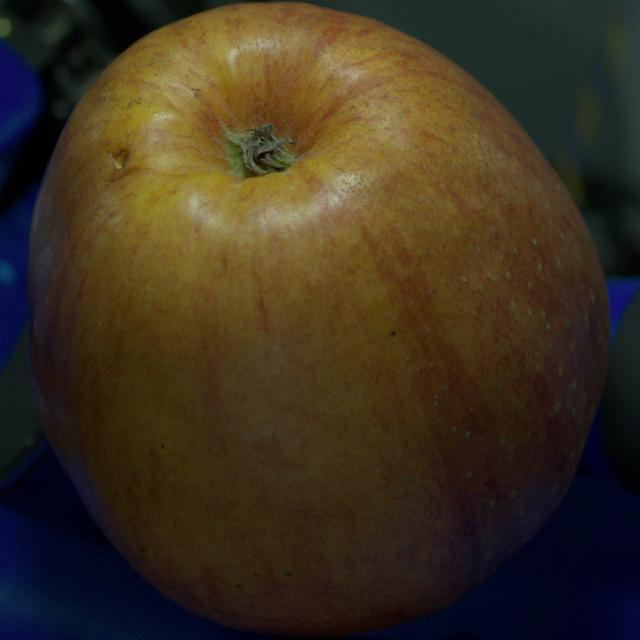apple: (28, 2, 609, 636)
scratch: (112, 149, 128, 169)
